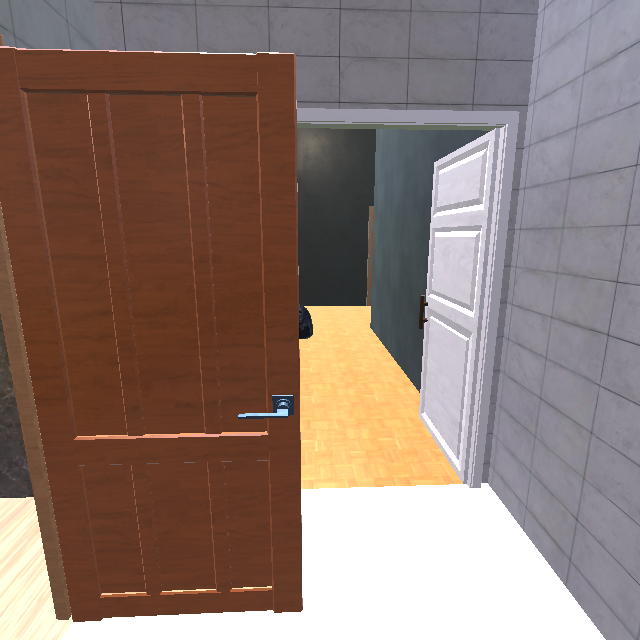open_doorway: (297, 108, 519, 487)
